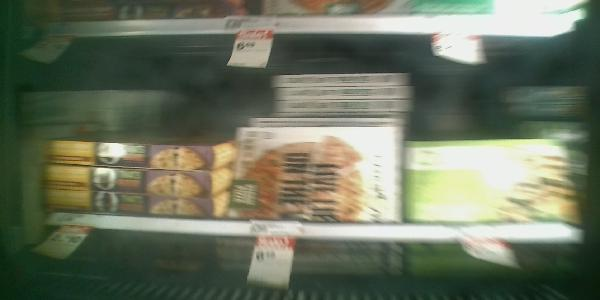pizza: (233, 129, 400, 226), (407, 141, 580, 231)
pizza1: (33, 138, 222, 171), (35, 165, 214, 198), (36, 193, 220, 221), (245, 116, 408, 131), (273, 87, 416, 102), (277, 101, 412, 114), (271, 75, 409, 87)
